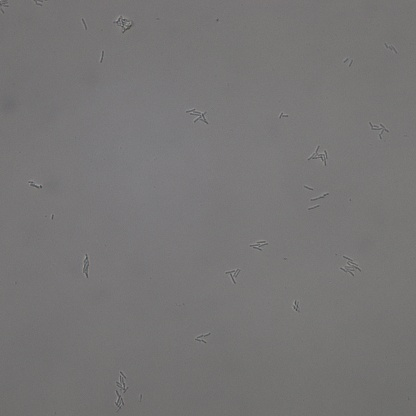R(colony): (339, 254, 361, 276), (307, 144, 328, 165), (186, 107, 209, 123), (369, 121, 389, 139), (115, 370, 131, 392), (112, 393, 127, 412), (225, 266, 240, 283), (249, 239, 268, 252)
